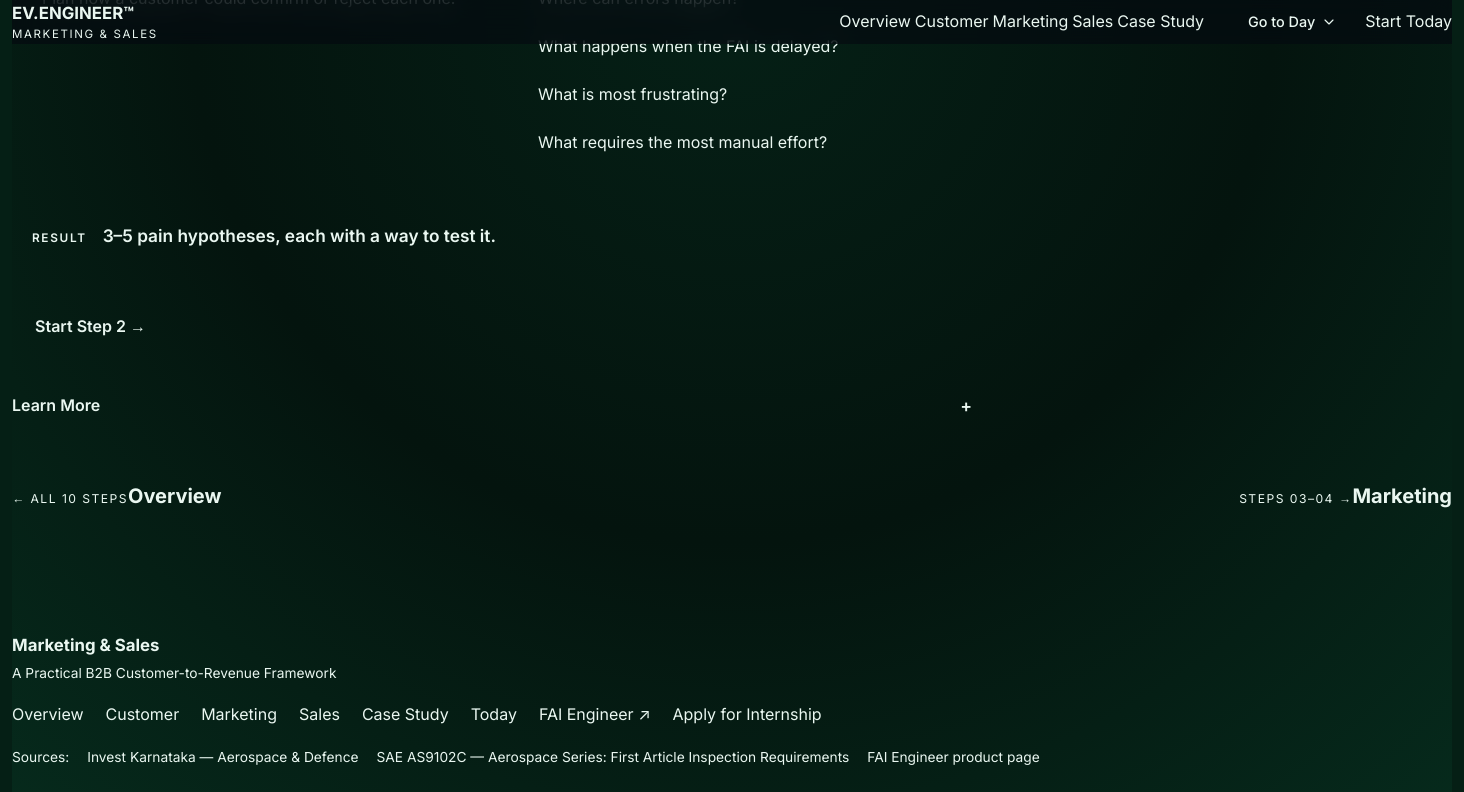
Scenario: Step pages › customer: the company and its people, then the workflow with its hypotheses
(page scrolled)
What coordinates should you click on to do the following:
click the heading "Learn More"
I would click on:
 (56, 405)
Its box is [12, 395, 100, 415].
(page scrolled)
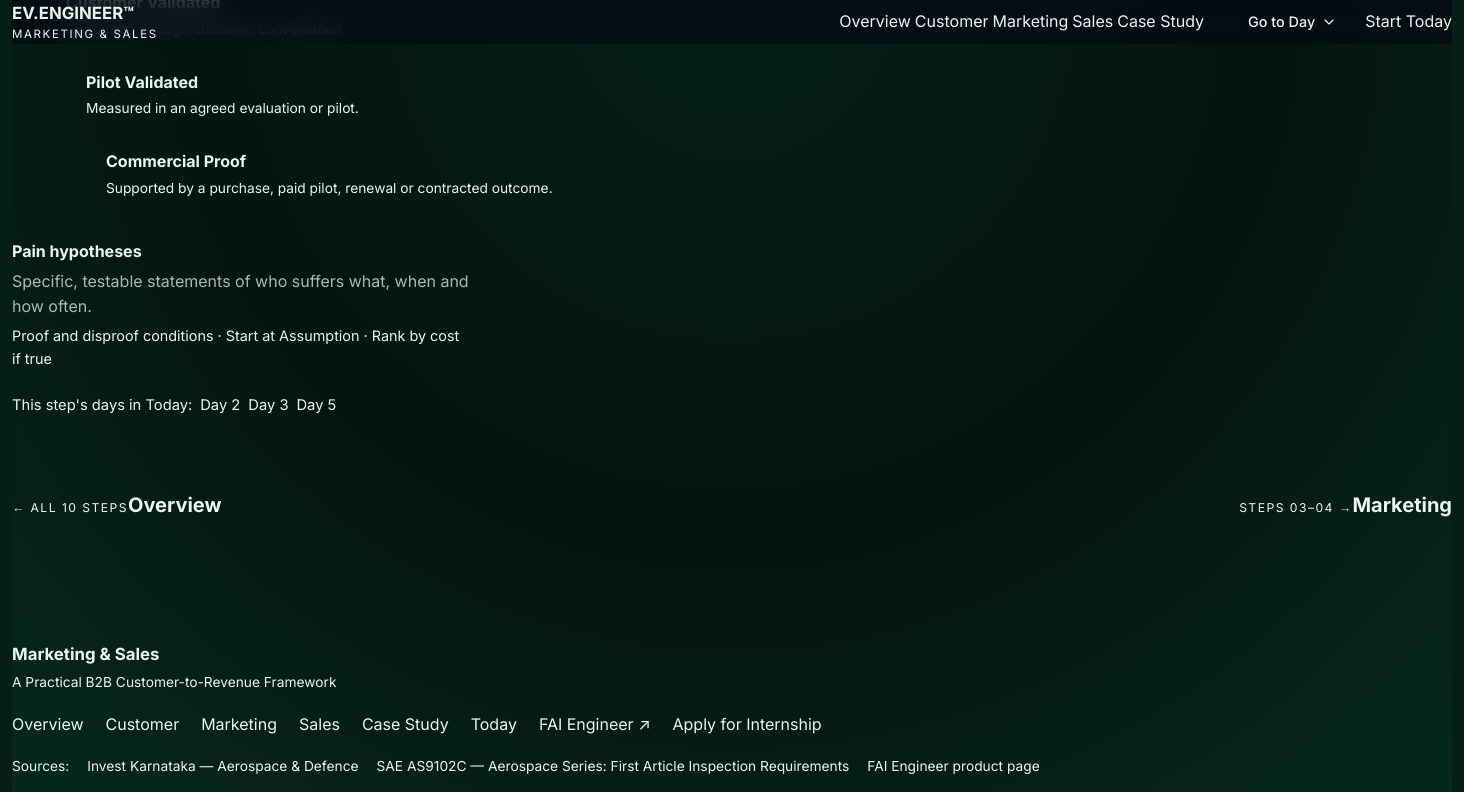
Now the text "Pain hypotheses" is shown, box [12, 241, 142, 261]
Now the text "Commercial Proof" is shown, box [106, 152, 246, 172]
